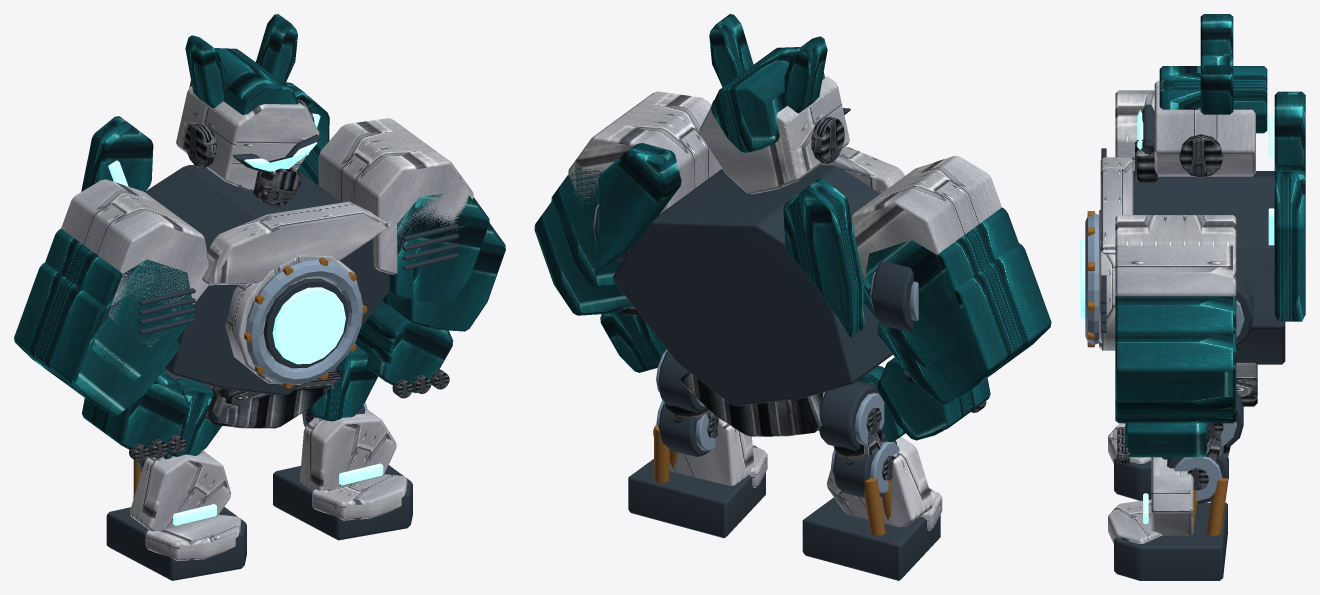
The model's file is heavy.glb.
3 renders of one model, left to right at view 1: azimuth 30°, elevation 25°; view 2: azimuth 150°, elevation 25°; view 3: azimuth 270°, elevation 25°, orthographic. The views are drawn at different scales.
Parts seen in each view (by area): view 1: Navy crown, Upper chest plating, Reinforced heavy torso, Greave armor, Face guard, Greave armor.001, Reactor concentric ring, Reactor lens, Servo housing.001, Servo housing.004, Tapered thigh shield.001, Tapered thigh shield; view 2: Navy crown, Reinforced heavy torso, Upper chest plating, Servo housing.001, Servo housing.004, Face guard, Greave armor, Greave armor.001, Bearing ring.002, Hub.002, Calf piston, Calf piston.002 (+3 smaller); view 3: Navy crown, Upper chest plating, Reinforced heavy torso, Servo housing.004, Greave armor.001, Face guard, Reactor concentric ring, Servo housing.001, Bearing ring.008, Hub.008, Calf piston.002, Reactor lens (+3 smaller).
Boxes of the visible parts, left/top/right/bottom form: Navy crown: left=14, top=14, right=505, bottom=457; Upper chest plating: left=61, top=86, right=473, bottom=384; Reinforced heavy torso: left=139, top=134, right=459, bottom=395; Greave armor: left=130, top=450, right=241, bottom=560; Face guard: left=129, top=99, right=449, bottom=462; Greave armor.001: left=300, top=409, right=407, bottom=520; Reactor concentric ring: left=245, top=259, right=362, bottom=384; Reactor lens: left=244, top=142, right=345, bottom=364; Servo housing.001: left=106, top=369, right=246, bottom=580; Servo housing.004: left=273, top=405, right=412, bottom=540; Tapered thigh shield.001: left=306, top=345, right=377, bottom=421; Tapered thigh shield: left=167, top=378, right=221, bottom=456; Navy crown: left=534, top=14, right=1051, bottom=440; Reinforced heavy torso: left=594, top=108, right=913, bottom=406; Upper chest plating: left=568, top=74, right=1001, bottom=303; Servo housing.001: left=802, top=380, right=940, bottom=580; Servo housing.004: left=628, top=350, right=765, bottom=538; Face guard: left=620, top=100, right=986, bottom=436; Greave armor: left=826, top=437, right=942, bottom=530; Greave armor.001: left=653, top=419, right=767, bottom=487; Bearing ring.002: left=818, top=392, right=899, bottom=493; Hub.002: left=833, top=408, right=895, bottom=480; Calf piston: left=864, top=478, right=891, bottom=535; Calf piston.002: left=654, top=425, right=678, bottom=482; Navy crown: left=1115, top=14, right=1305, bottom=457; Upper chest plating: left=1099, top=80, right=1255, bottom=350; Reinforced heavy torso: left=1101, top=104, right=1285, bottom=364; Servo housing.004: left=1114, top=392, right=1243, bottom=580; Greave armor.001: left=1108, top=457, right=1193, bottom=543; Face guard: left=1117, top=134, right=1257, bottom=463; Reactor concentric ring: left=1085, top=213, right=1244, bottom=344; Servo housing.001: left=1114, top=458, right=1151, bottom=500; Bearing ring.008: left=1174, top=421, right=1236, bottom=500; Hub.008: left=1187, top=423, right=1230, bottom=490; Calf piston.002: left=1182, top=478, right=1228, bottom=535; Reactor lens: left=1080, top=110, right=1143, bottom=319.
Size of the model in its own units: 1.52 by 1.64 by 0.689.
Materials: 8 (3 with a texture image).
